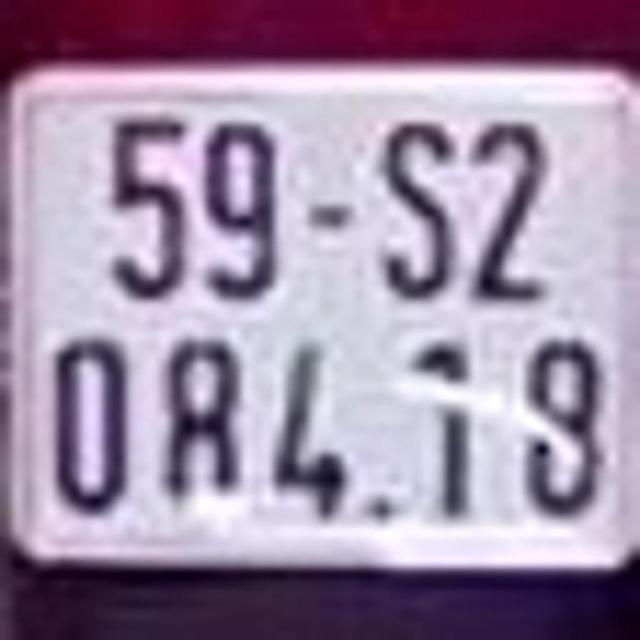0: (58, 334, 124, 508)
1: (412, 336, 476, 514)
2: (476, 120, 544, 303)
4: (277, 344, 350, 516)
5: (106, 116, 186, 294)
8: (169, 338, 242, 524), (528, 336, 599, 525)
9: (206, 123, 277, 303)
S: (381, 119, 448, 294)
